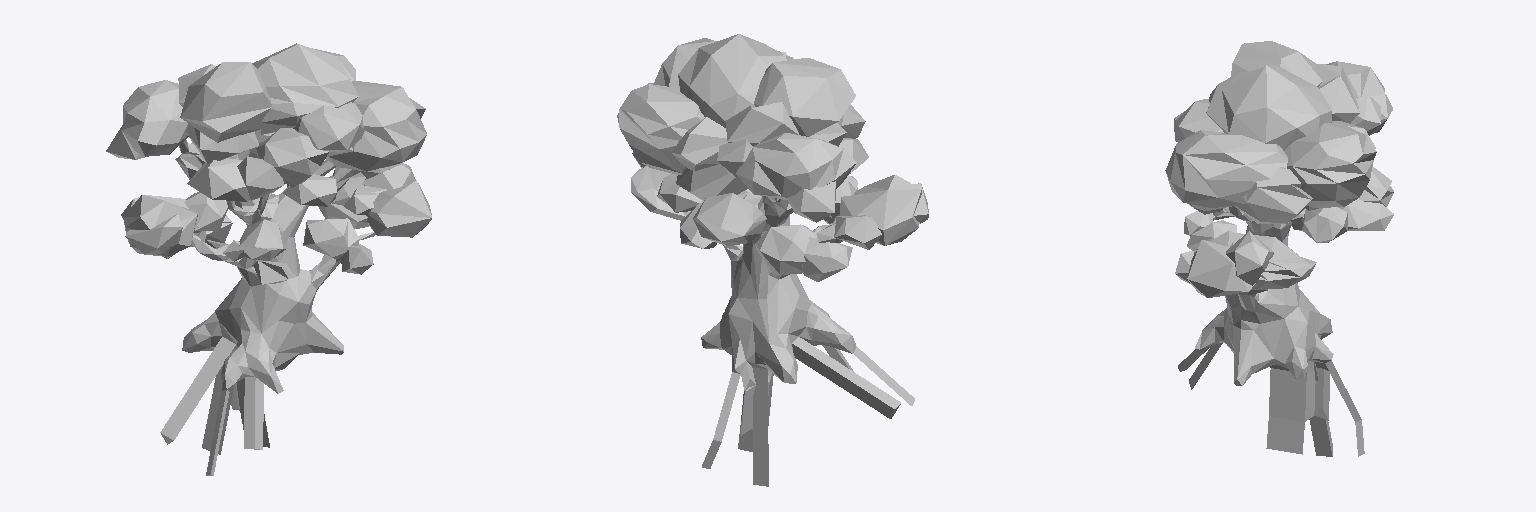
The model's file is fatTree.obj.
3 views of the same model, side by side, from view 1: azimuth 30°, elevation 25°; view 2: azimuth 150°, elevation 25°; view 3: azimuth 270°, elevation 25° (orthographic).
Parts seen in each view (by area): view 1: fattree_Mesh.003; view 2: fattree_Mesh.003; view 3: fattree_Mesh.003.
Part boxes in pixels (x1,y1,x2,y2): fattree_Mesh.003: (106, 43, 431, 475); fattree_Mesh.003: (617, 34, 928, 486); fattree_Mesh.003: (1165, 41, 1393, 456).
Size of the model in its own units: 182 by 249 by 124.